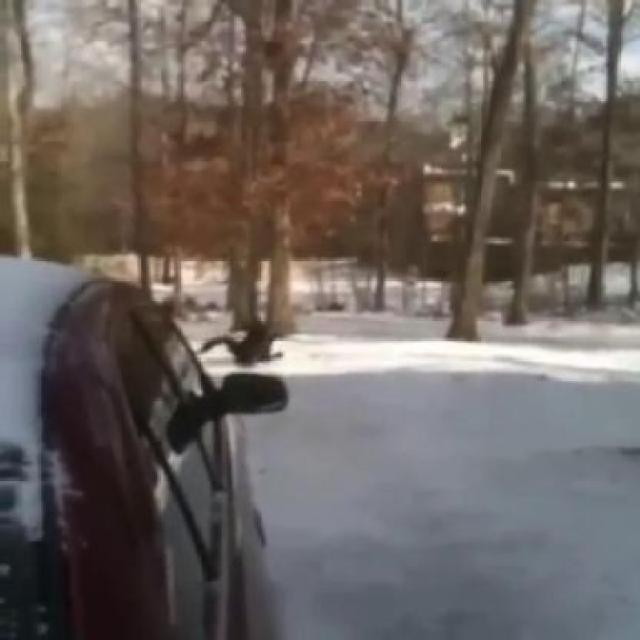fall: (193, 322, 287, 368)
